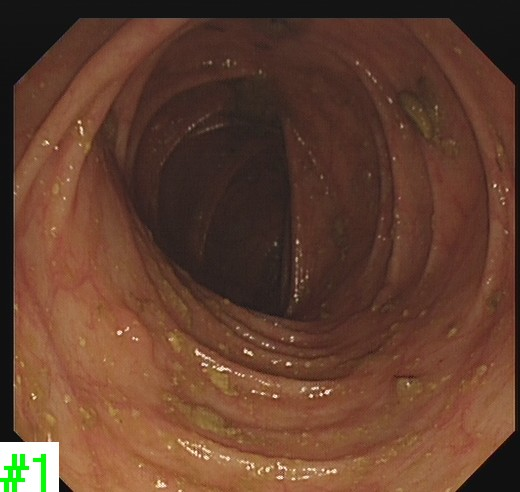adenoma: (107, 300, 156, 364)
